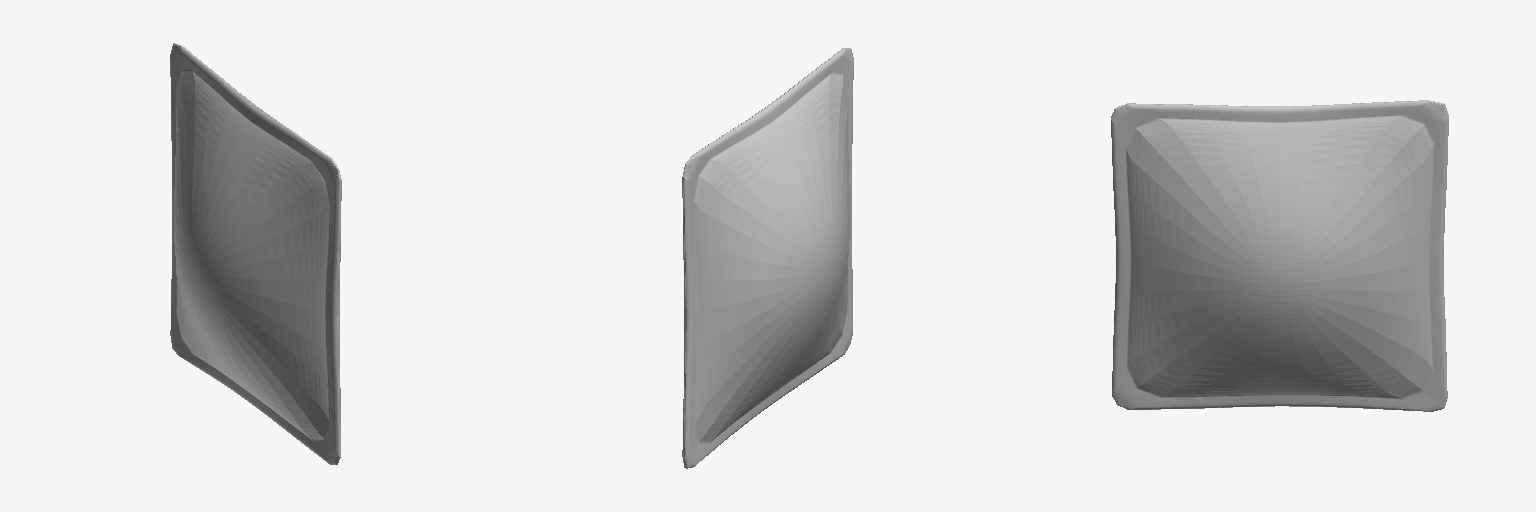
Rendered from cornholebag2_Noah.obj.
The picture shows the model from 3 angles: view 1: azimuth 30°, elevation 25°; view 2: azimuth 150°, elevation 25°; view 3: azimuth 270°, elevation 25°; orthographic projection.
Visible parts, largest first — view 1: Plane; view 2: Plane; view 3: Plane.
Part boxes in pixels (left/top/right/bottom): Plane: left=170, top=43, right=341, bottom=464; Plane: left=682, top=48, right=853, bottom=468; Plane: left=1111, top=100, right=1448, bottom=411.
Size of the model in its own units: 28.09 by 75 by 73.94.